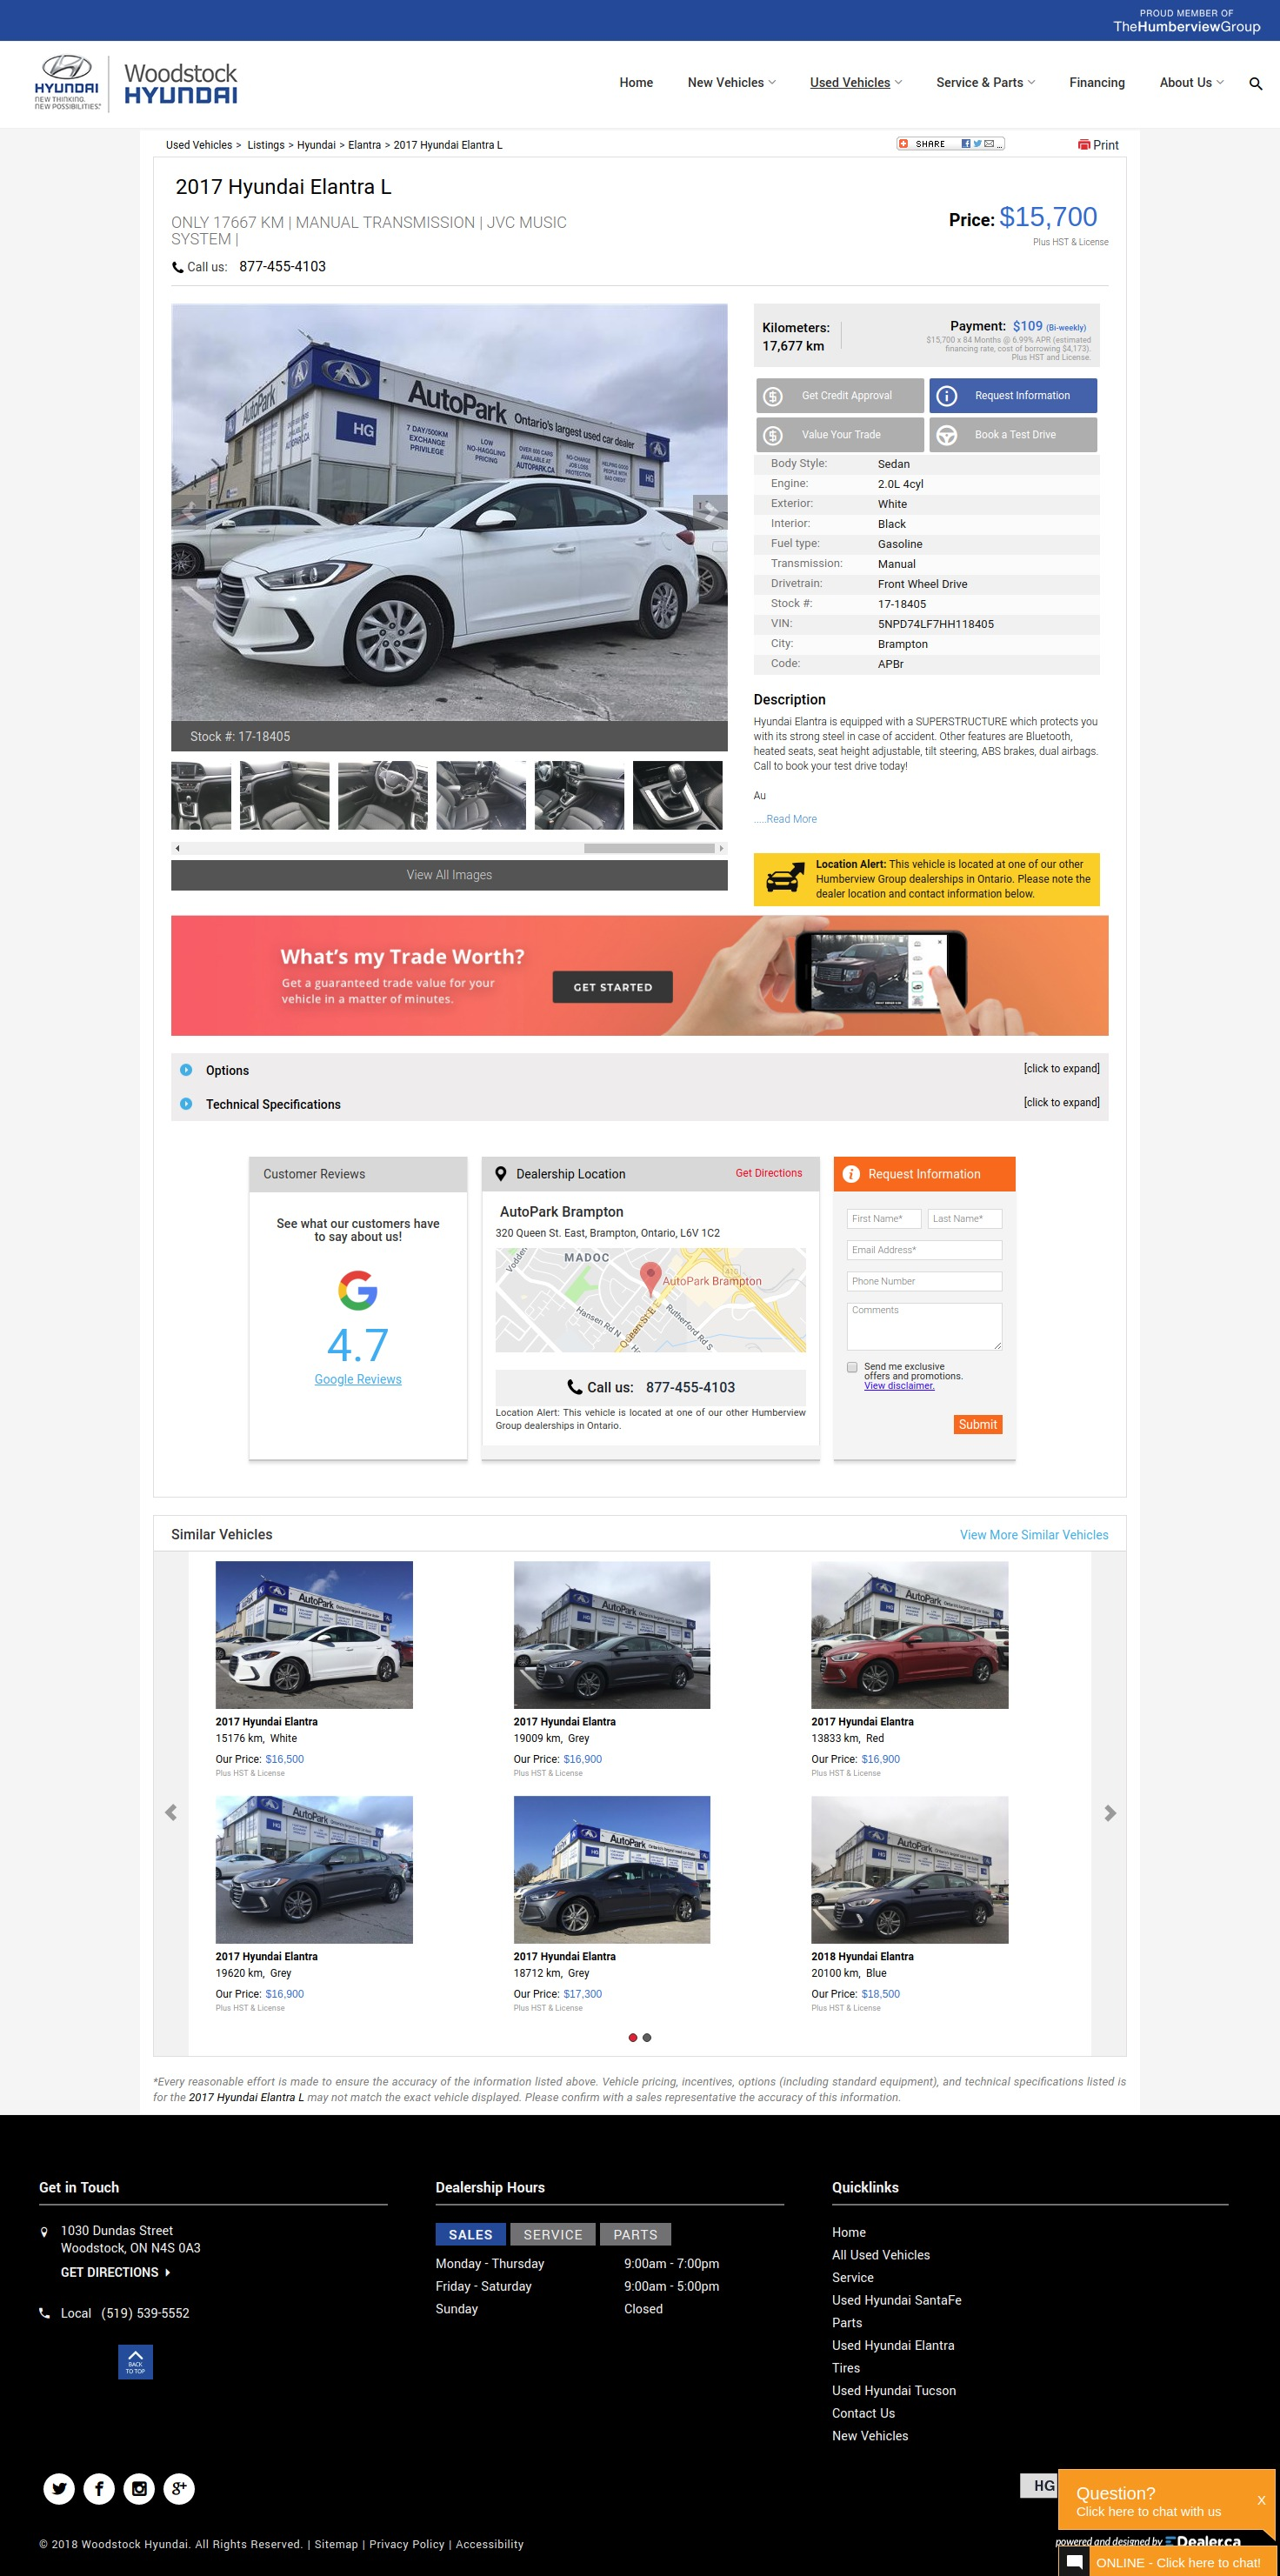car: (705, 503, 720, 524)
